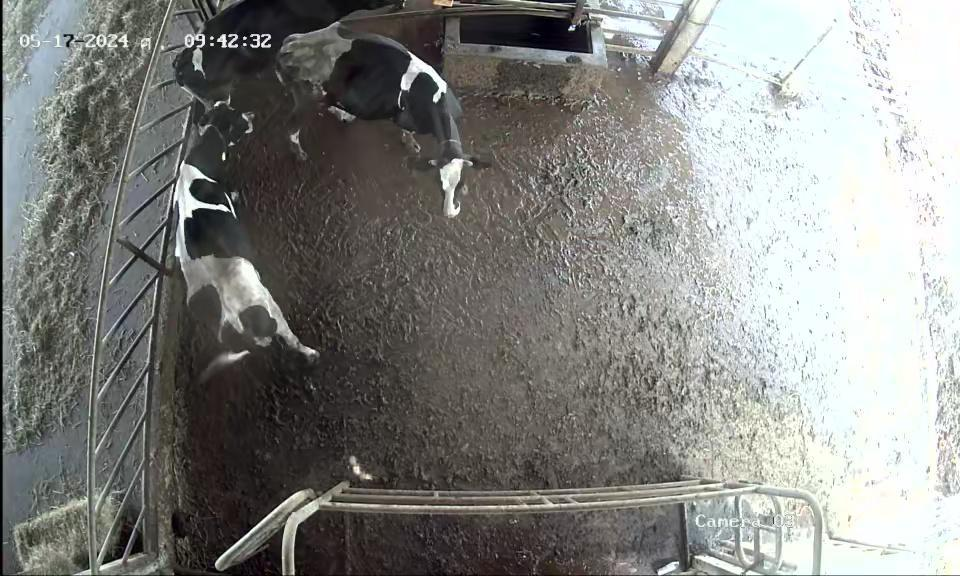stand: (153, 98, 332, 390), (276, 27, 479, 224), (171, 1, 413, 103)
